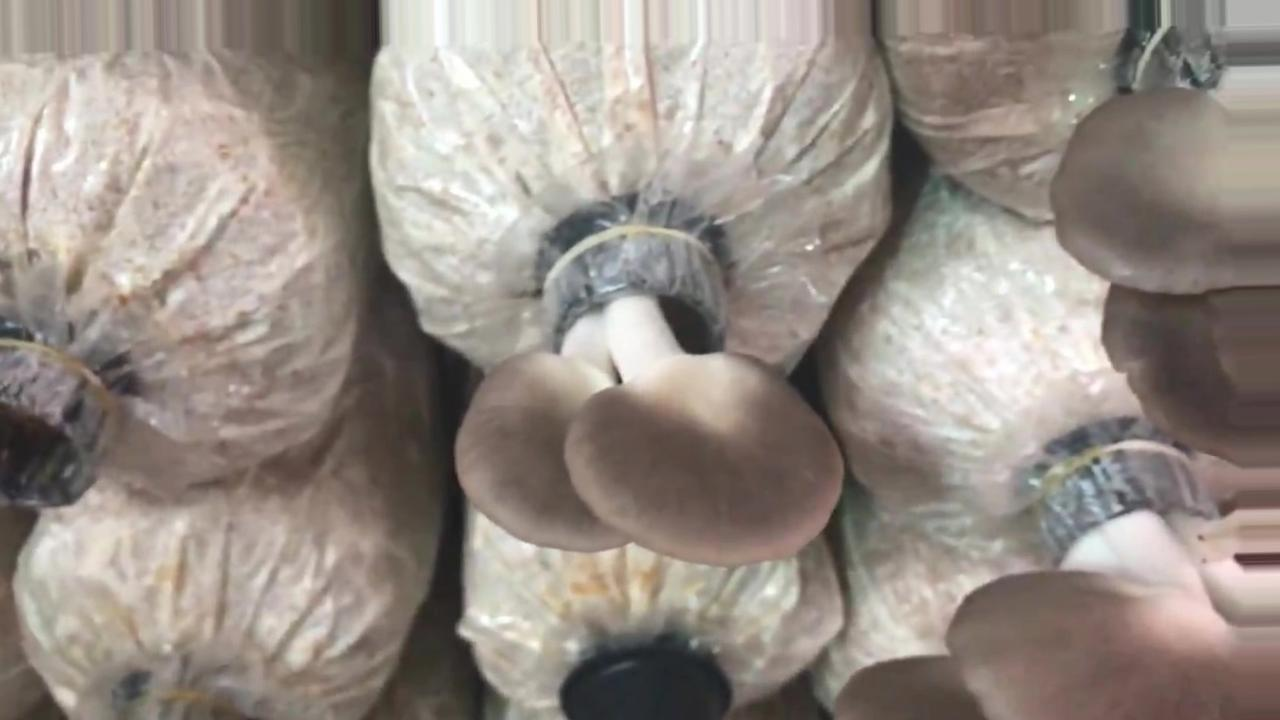nam: (463, 221, 828, 557), (841, 457, 1277, 720)
